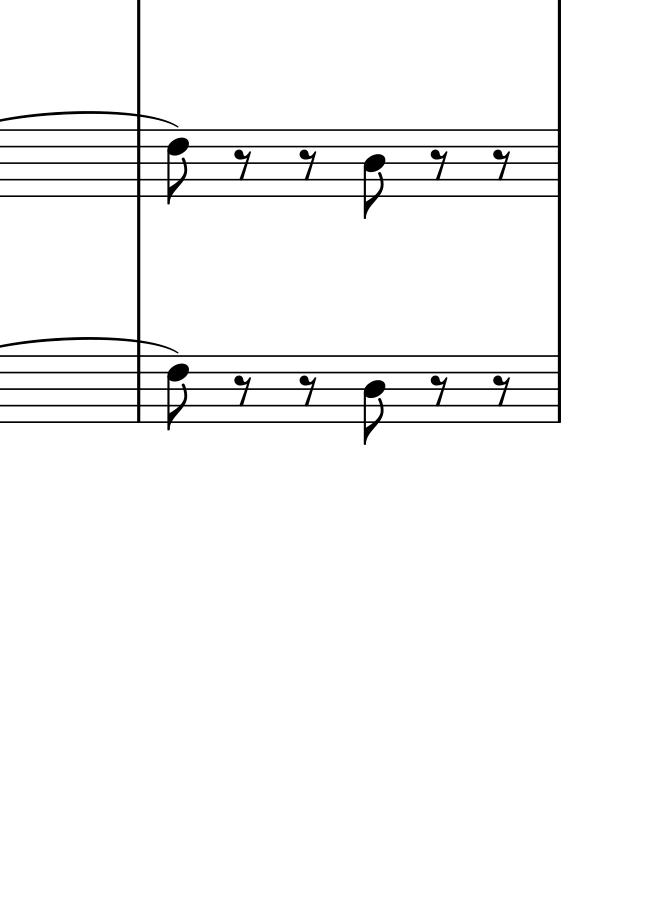8_4: (362, 355, 388, 446), (363, 127, 388, 219)
8_6: (164, 354, 194, 428), (165, 126, 188, 205)
Rests8: (488, 371, 514, 408), (228, 374, 253, 408), (295, 374, 318, 407), (297, 147, 318, 179), (426, 374, 448, 404), (232, 147, 251, 180), (491, 143, 510, 176), (430, 147, 448, 179)
Single_barline: (130, 127, 147, 200), (550, 356, 567, 422), (550, 130, 567, 195), (133, 353, 148, 421)
